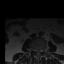CCS_stenosis: (37, 47, 39, 56)
LFS_normal: (41, 47, 43, 53)
LLS_normal: (39, 47, 41, 54)
RFS_normal: (33, 47, 35, 53)
RLS_normal: (35, 47, 37, 54)
